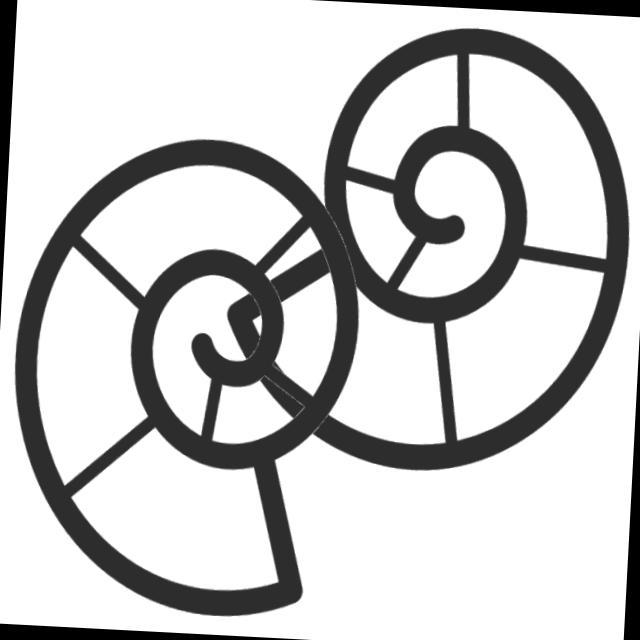fossil: (211, 7, 640, 499), (1, 124, 382, 632)
